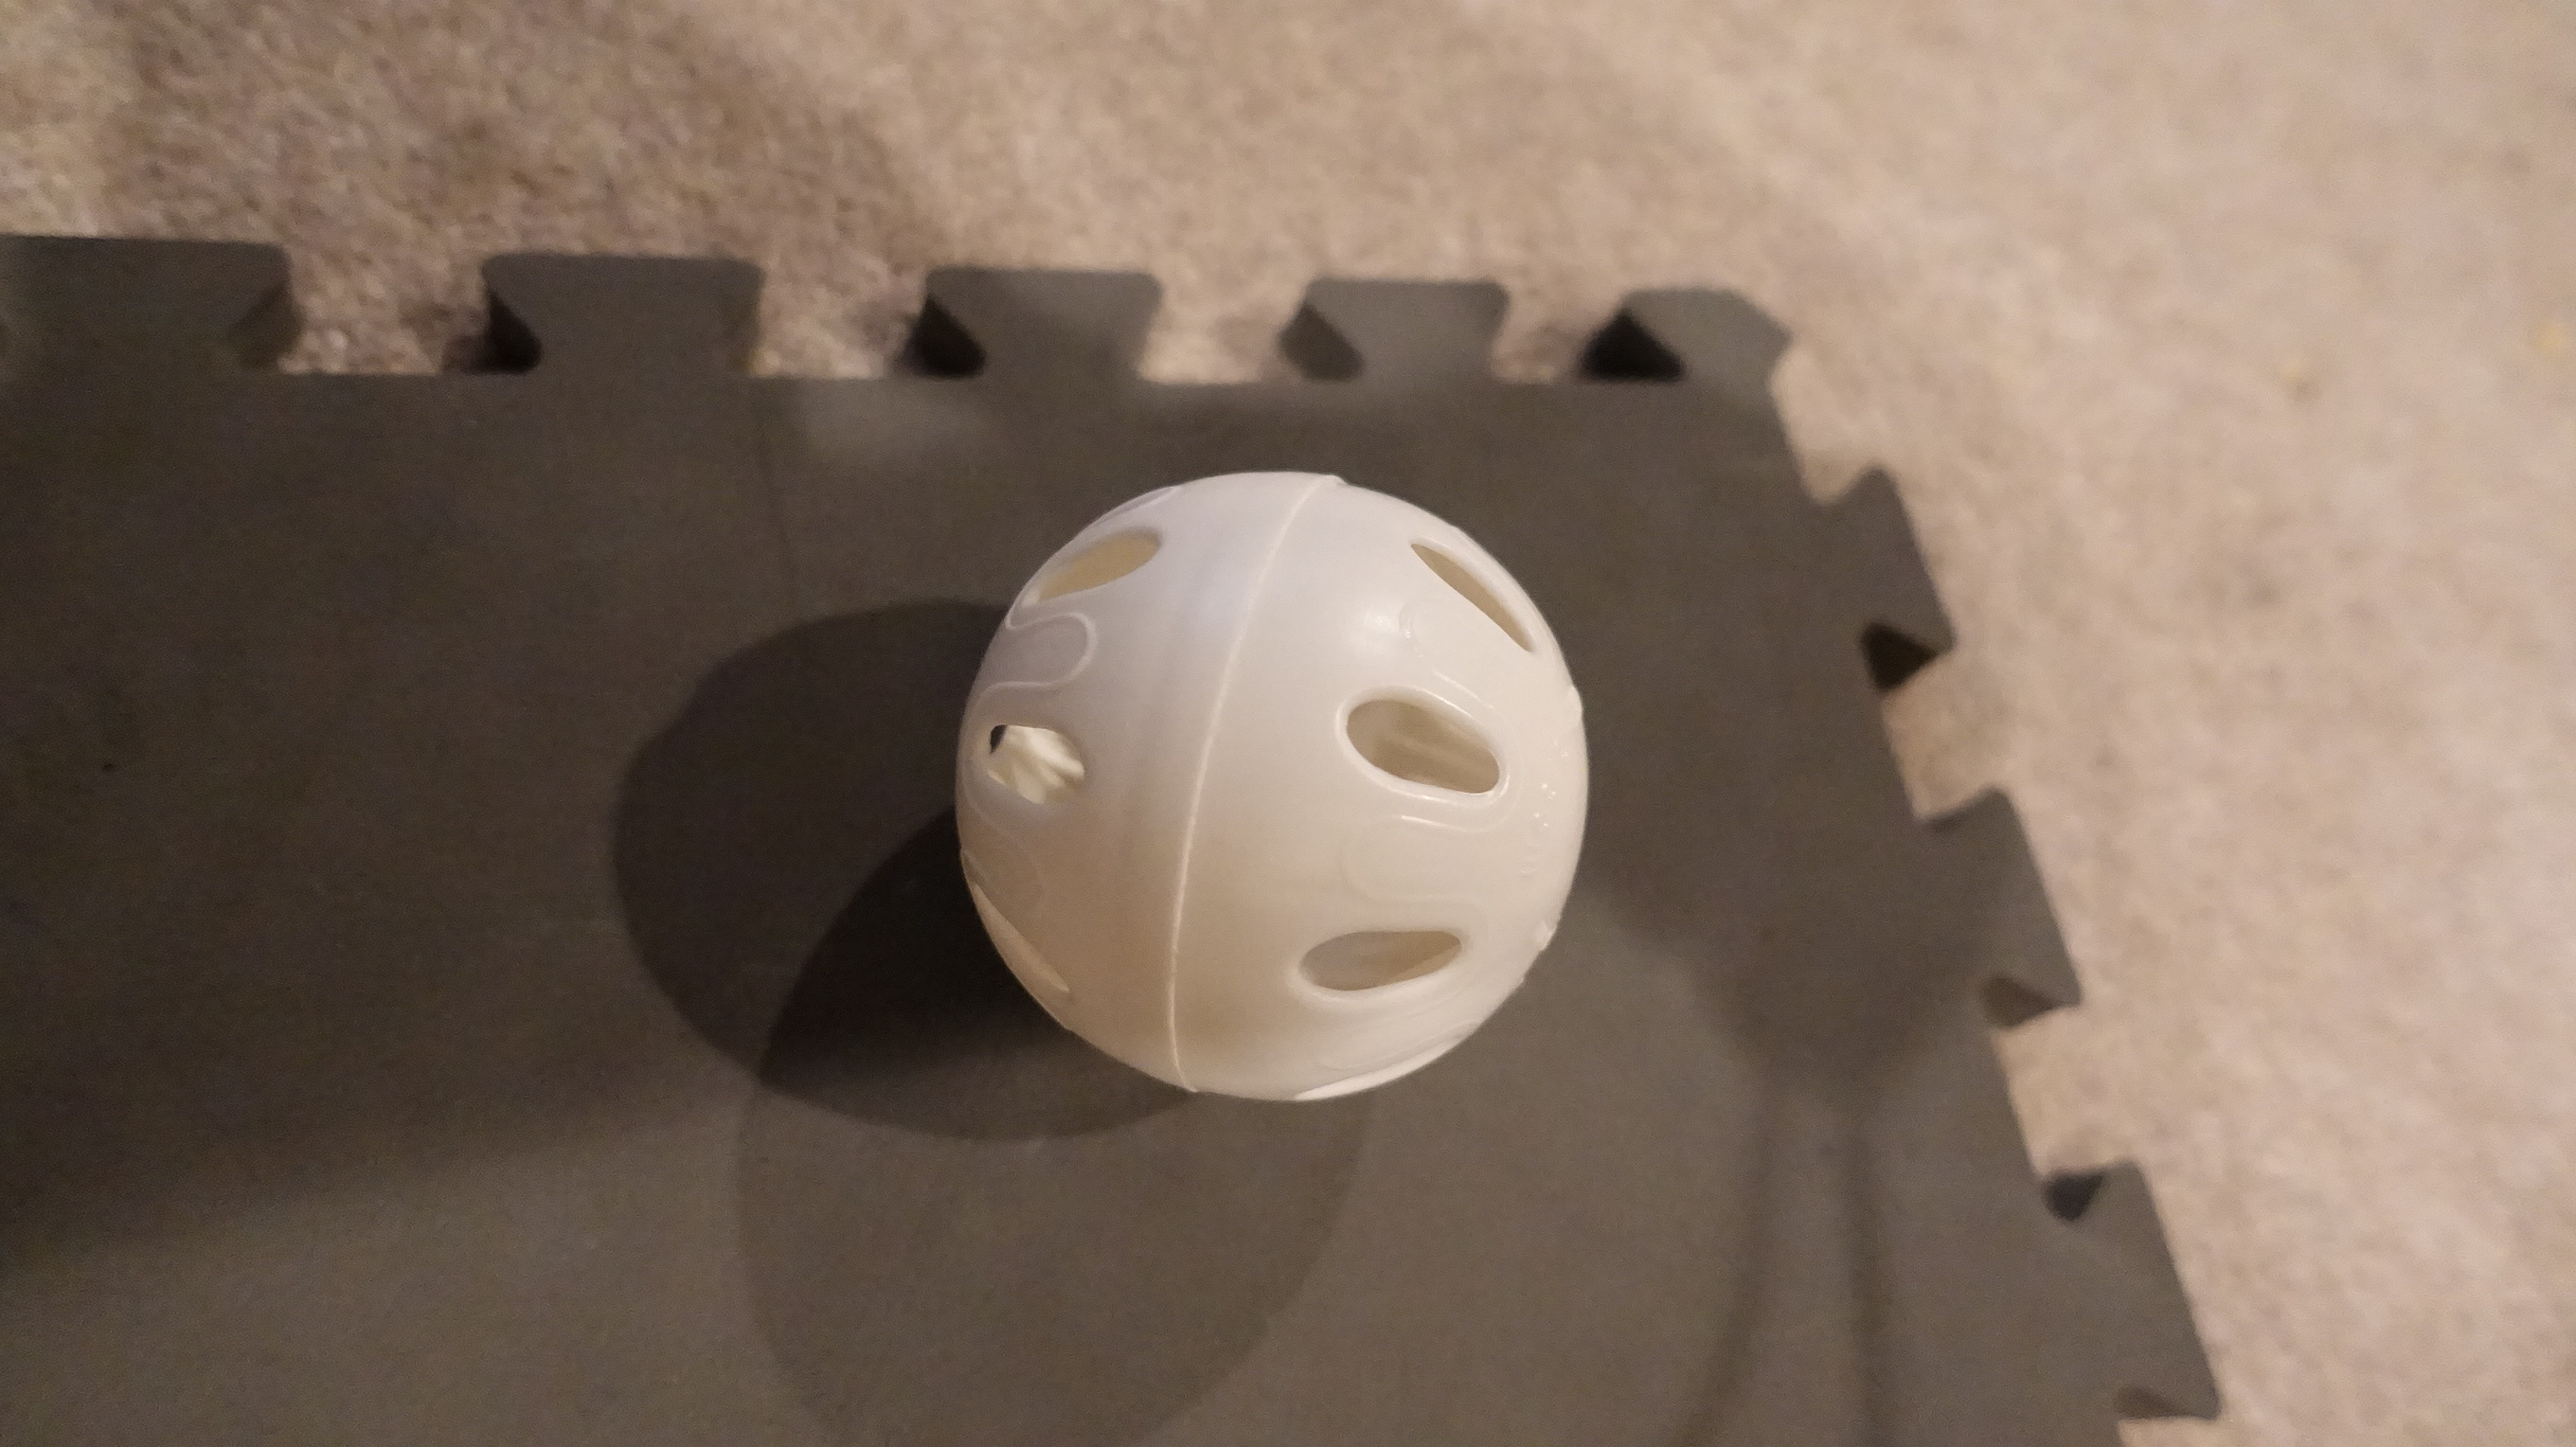silver: (957, 451, 1608, 1122)
